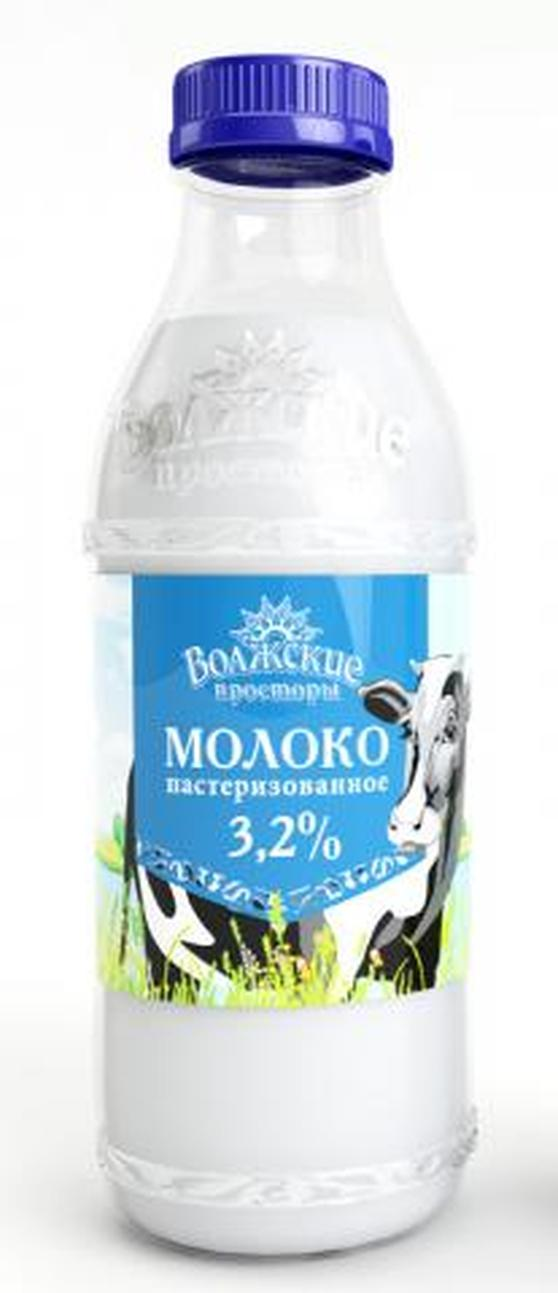milk: (93, 45, 487, 1256)
